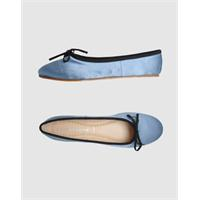shoe: (40, 114, 162, 150), (39, 49, 162, 81)
